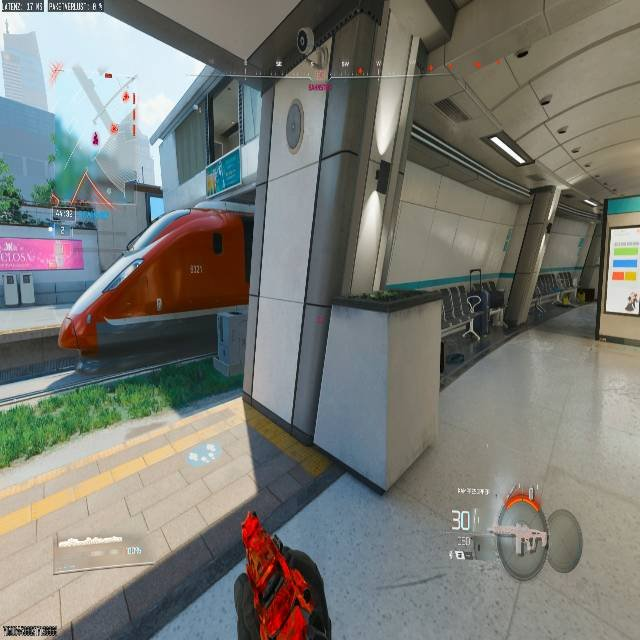head: (42, 0, 640, 571)
player: (465, 282, 502, 348)
